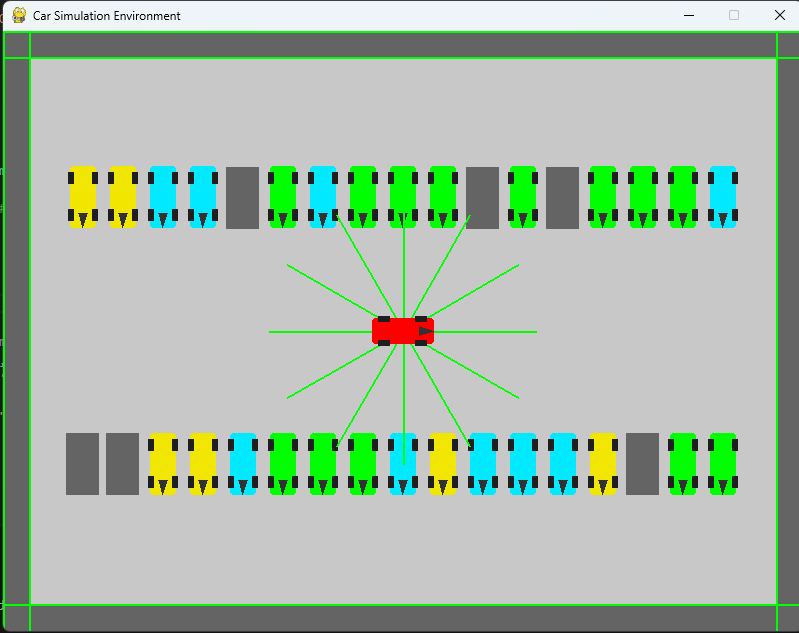ControlledCar: (357, 307, 444, 358)
ParkedCar: (422, 430, 467, 506), (59, 158, 102, 234), (624, 159, 664, 235), (704, 162, 741, 234), (185, 430, 223, 500), (667, 427, 703, 500), (664, 164, 702, 233), (586, 160, 622, 232), (265, 160, 301, 230), (705, 429, 742, 497), (346, 162, 381, 233), (387, 162, 421, 235), (308, 164, 343, 234), (226, 429, 261, 499), (147, 426, 181, 498), (307, 426, 341, 498), (549, 430, 583, 498), (106, 163, 139, 233), (265, 431, 298, 500), (508, 162, 543, 227), (344, 433, 379, 498), (386, 429, 418, 499), (508, 431, 543, 495), (427, 161, 459, 230), (186, 161, 217, 232), (146, 162, 179, 228), (466, 428, 498, 494), (586, 433, 619, 495)
ParkingSpot: (61, 423, 100, 501), (463, 162, 501, 236), (545, 159, 583, 231), (222, 163, 261, 233), (624, 426, 659, 501), (107, 426, 141, 501)
